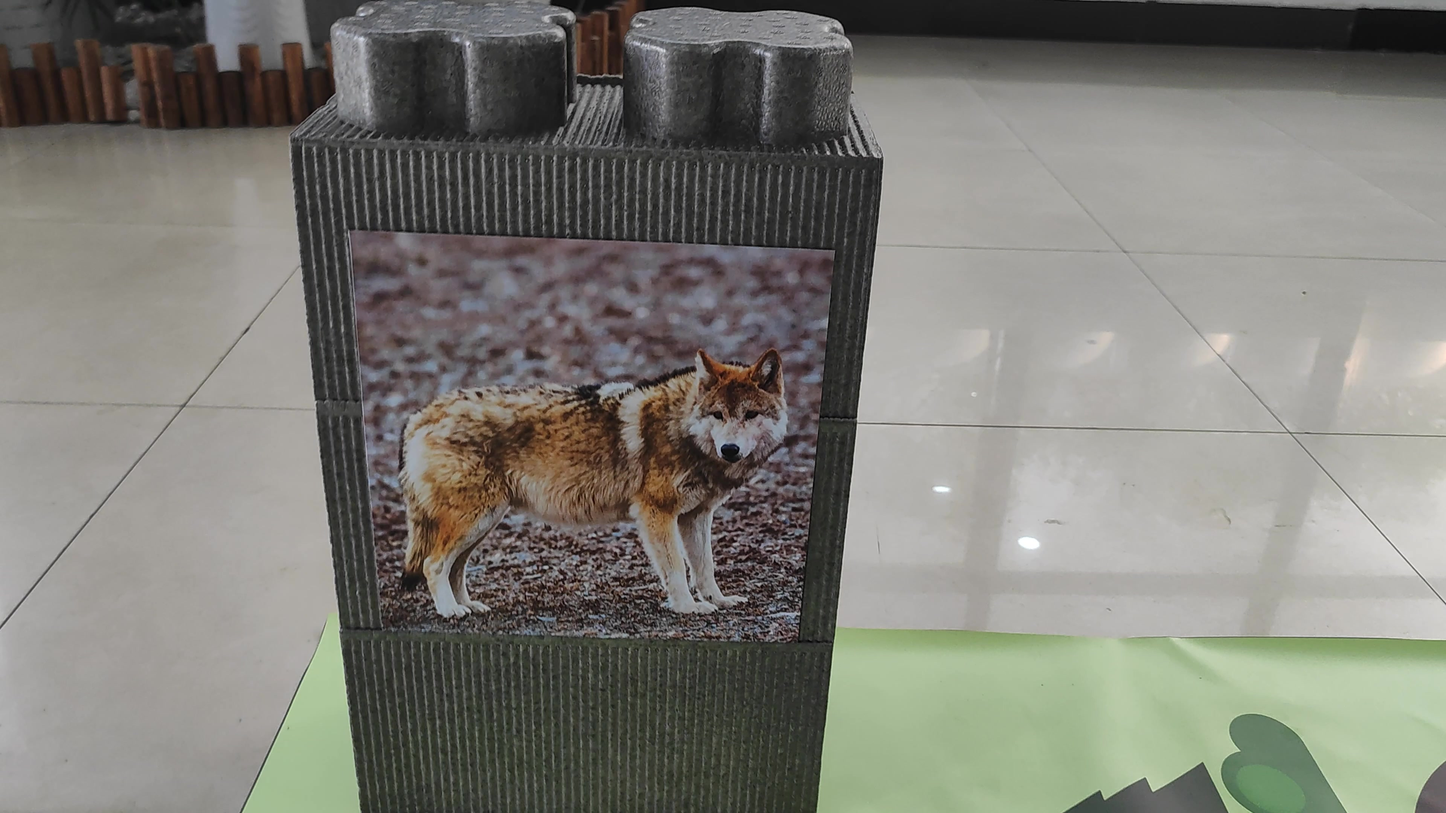wolf: (358, 233, 814, 644)
